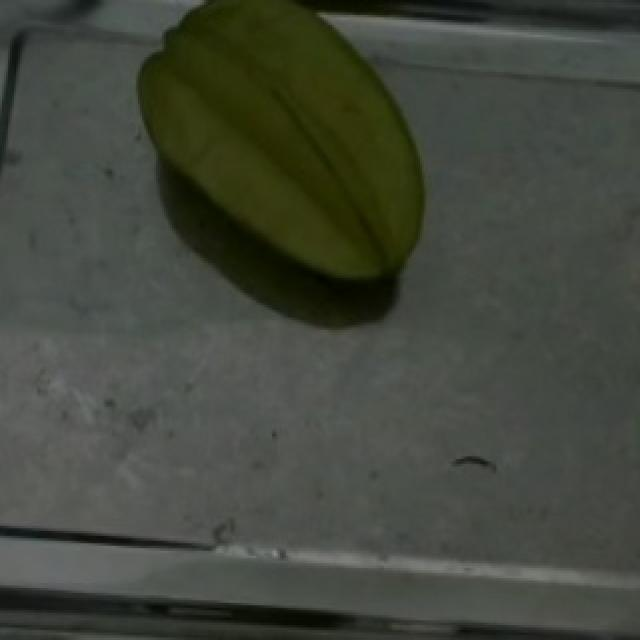fruit: (114, 3, 450, 305)
